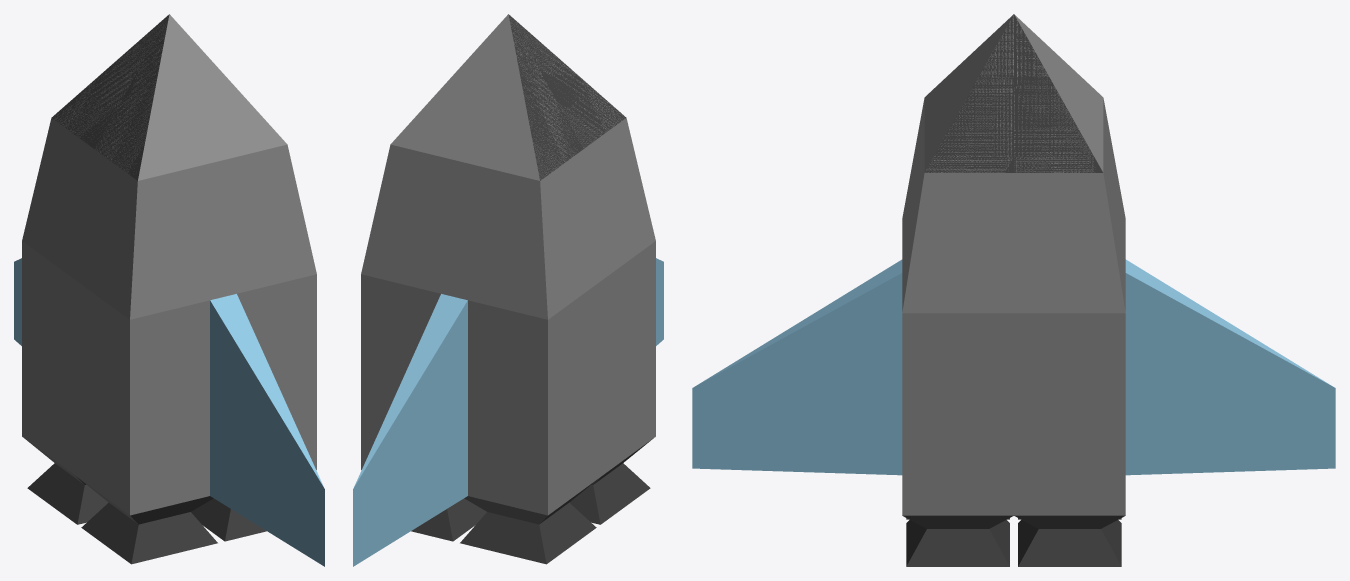
File: Rocket.fbx
3 renders of one model, left to right at view 1: azimuth 30°, elevation 25°; view 2: azimuth 150°, elevation 25°; view 3: azimuth 270°, elevation 25°, orthographic. The views are drawn at different scales.
Visible parts, largest first — view 1: Cube; view 2: Cube; view 3: Cube.
Part boxes in pixels (x1=…): Cube: x1=14, y1=14, x2=324, y2=566; Cube: x1=353, y1=14, x2=663, y2=566; Cube: x1=692, y1=14, x2=1335, y2=566.
Bounding box in the file's own units: 2 × 5.01 × 5.76.
